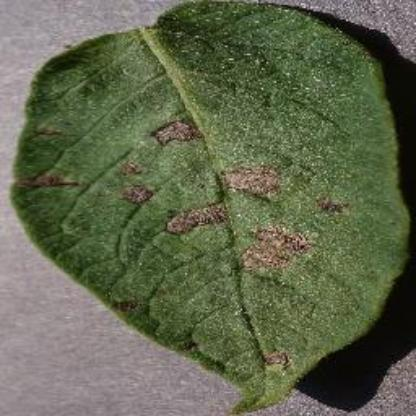Early-Blight: (10, 4, 414, 410)
